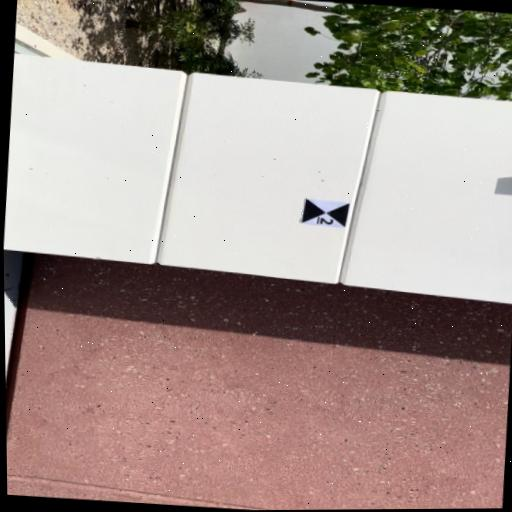target2: (301, 197, 350, 228)
